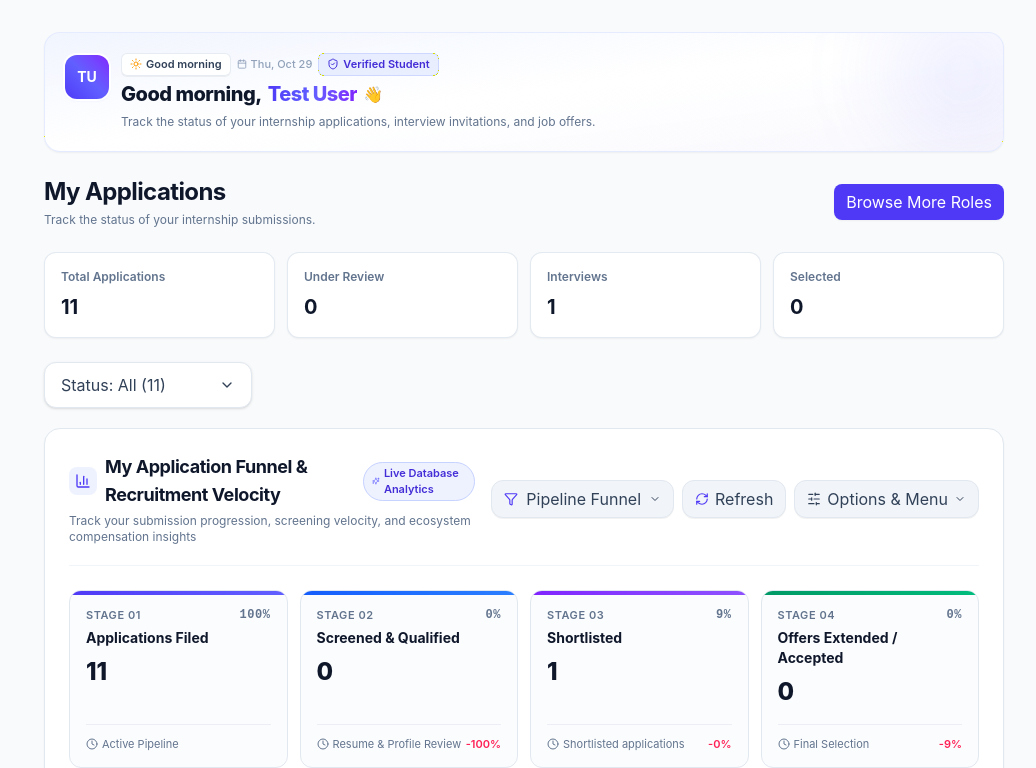
Test: ApplicationsPage status menu and pagination › syncs the status menu selection to the application URL
Click the button "Status: All (11)".
click(148, 385)  # box [44,362,252,408]
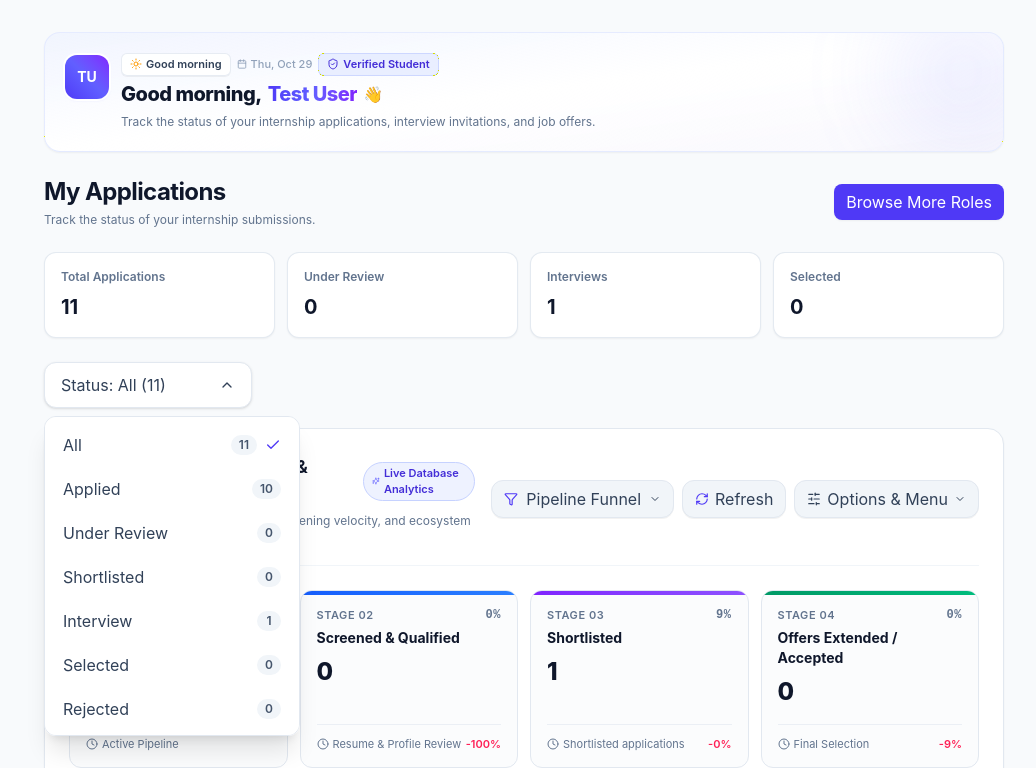
Click the menu item "Shortlisted 0".
click(172, 577)  # box [51,555,293,599]
(page scrolled)
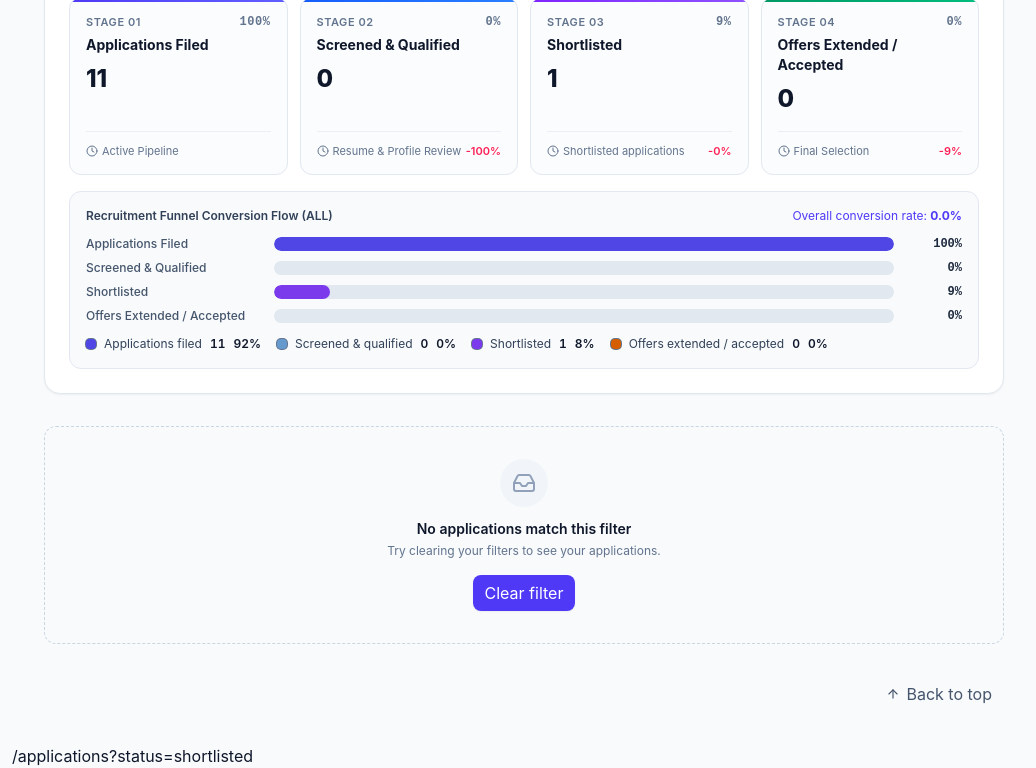
Check: the text with test id "current-url" reads "/applications?status=shortlisted", box [12,746,253,766]
